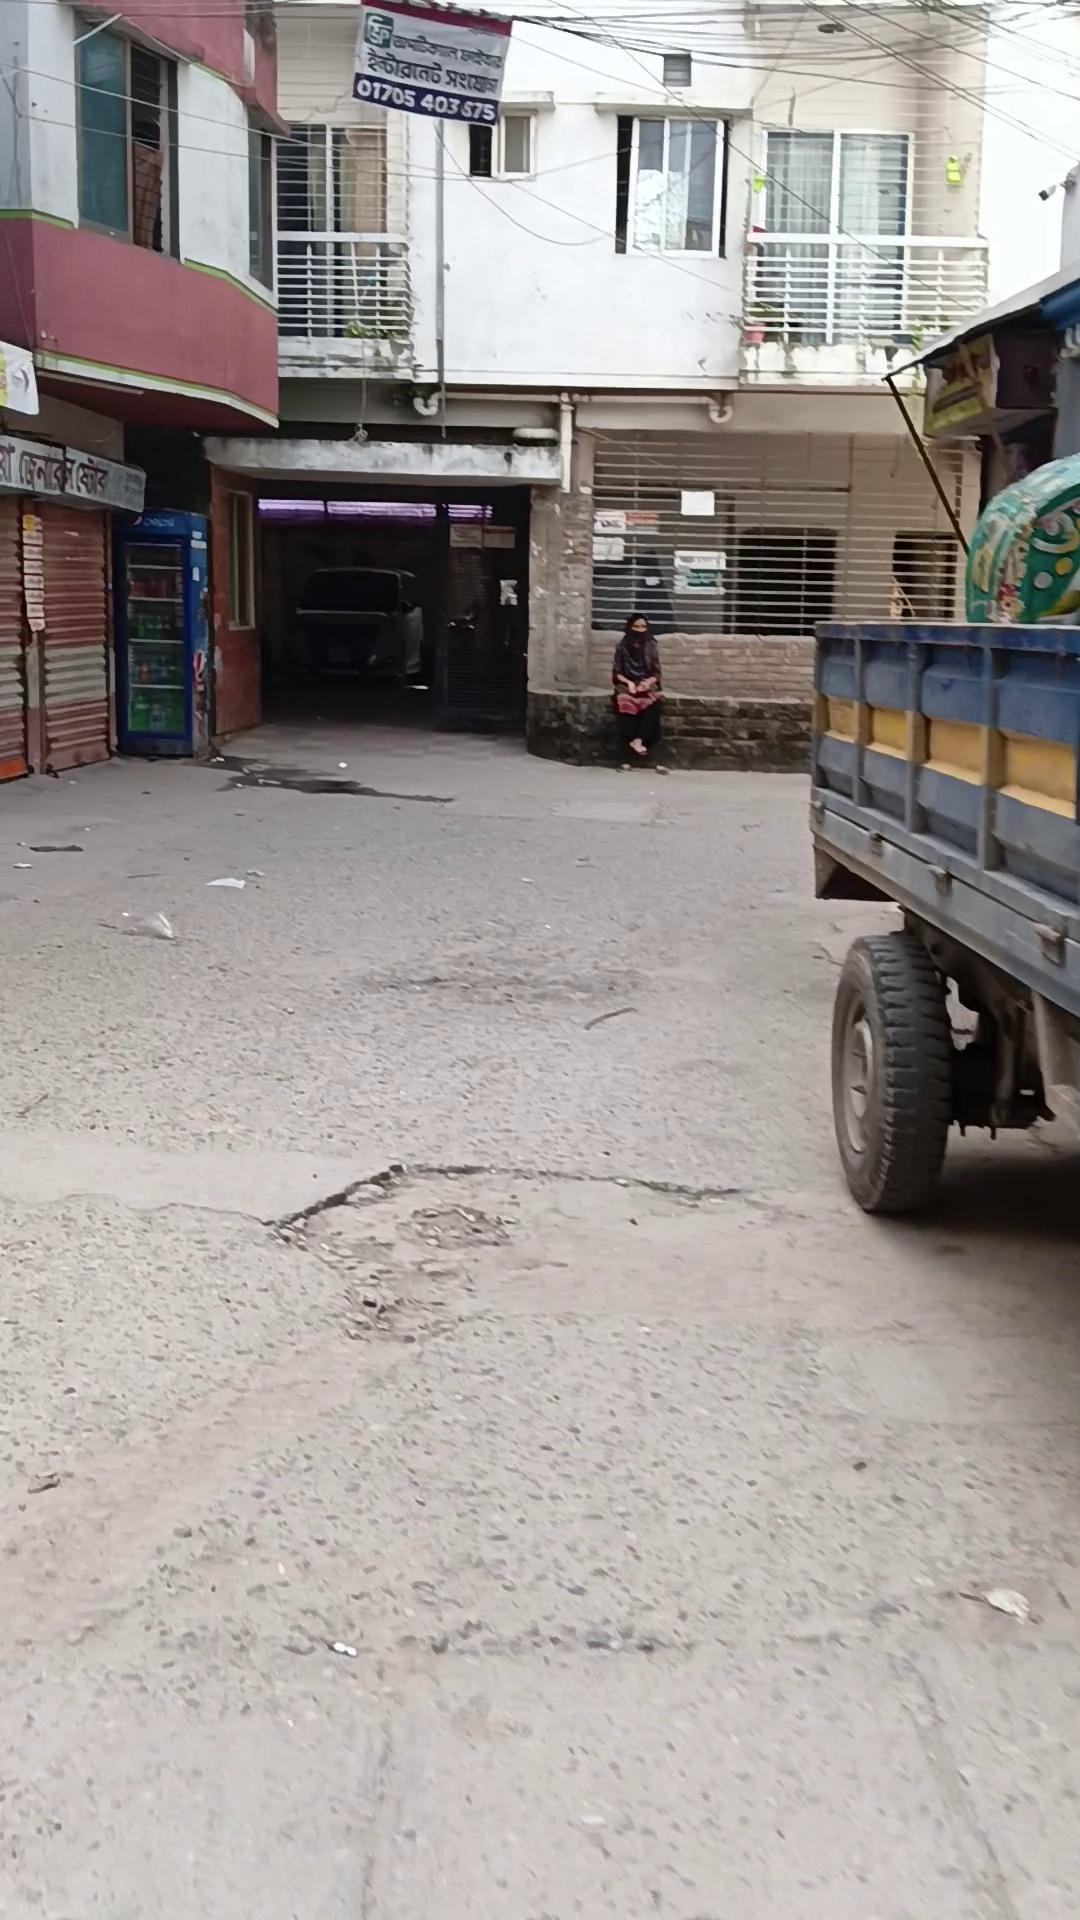Broken-road: (1, 713, 1077, 1917)
Car: (291, 564, 425, 684)
Crosswalk: (524, 688, 814, 771)
Muddy road: (611, 613, 665, 761)
Traffic-sign: (804, 615, 1077, 1216)
